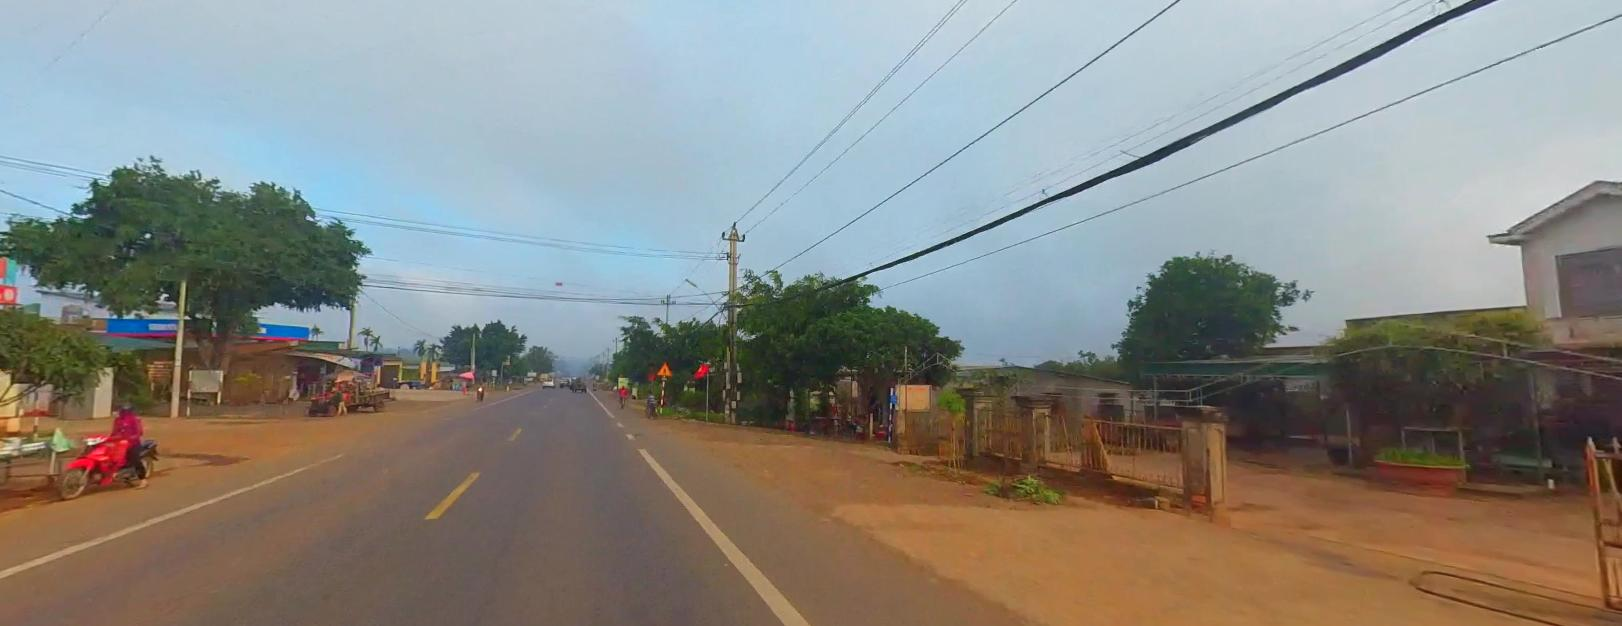Nguy hiem: (655, 358, 673, 375), (655, 358, 673, 374), (656, 359, 672, 374), (656, 360, 673, 374), (656, 361, 671, 374)
